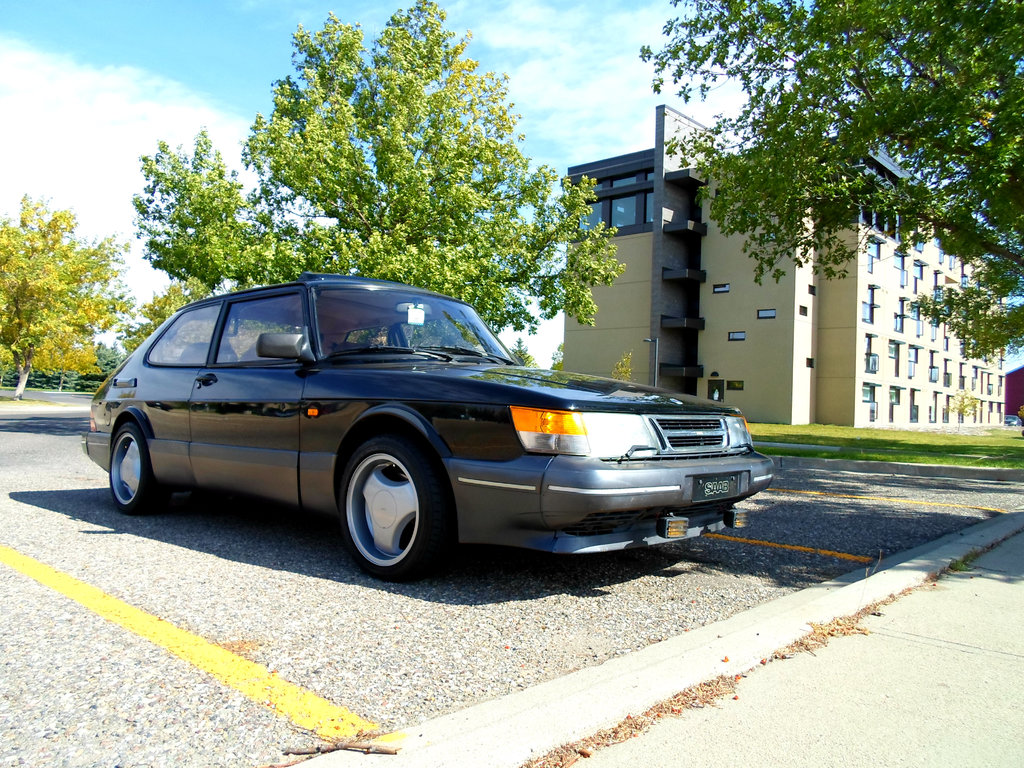Car: (80, 269, 776, 582)
